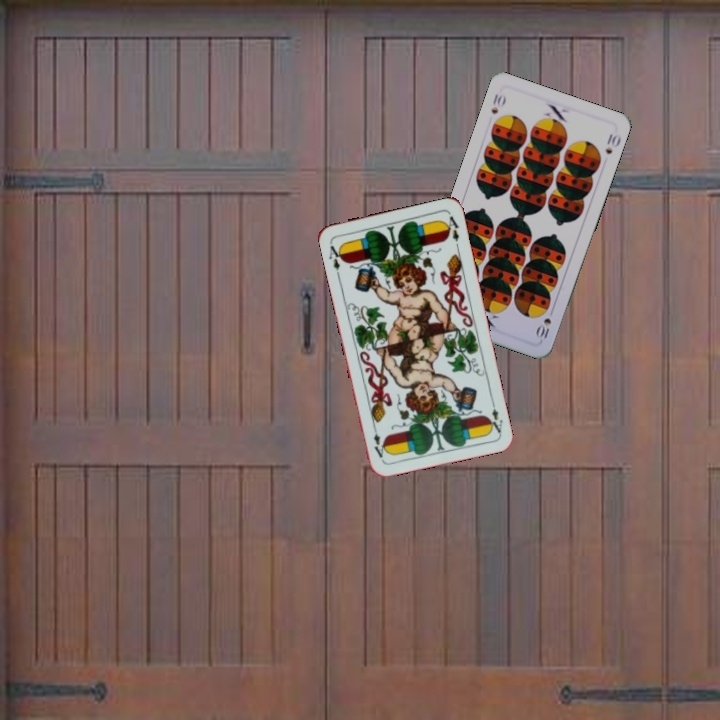EA: (484, 396, 505, 435), (325, 241, 346, 273)
S10: (533, 304, 557, 341), (487, 89, 509, 116)
